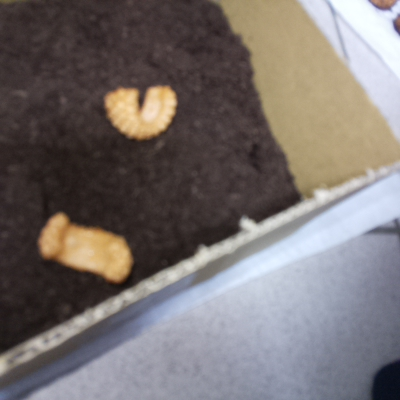eggs: (34, 207, 137, 287), (98, 78, 181, 144)
